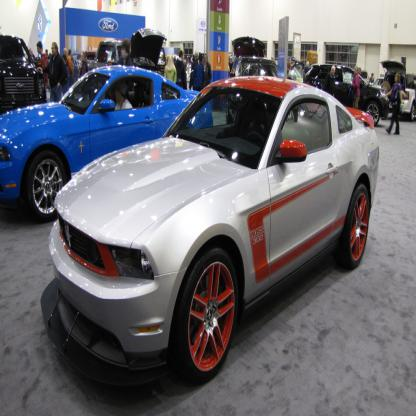Car: (0, 27, 415, 386)
